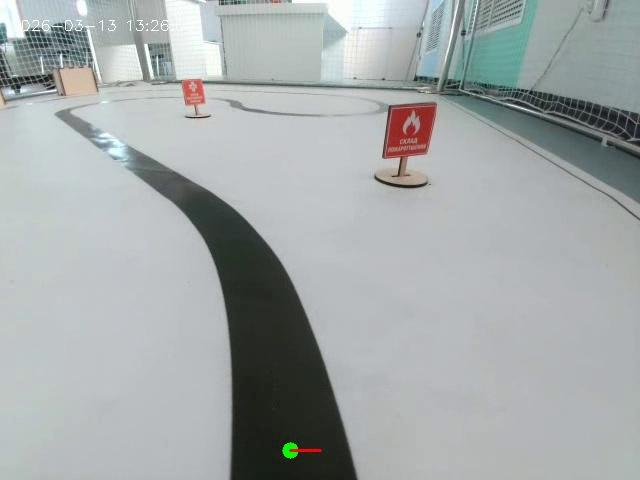fire: (375, 94, 443, 182)
medical: (170, 74, 220, 137)
